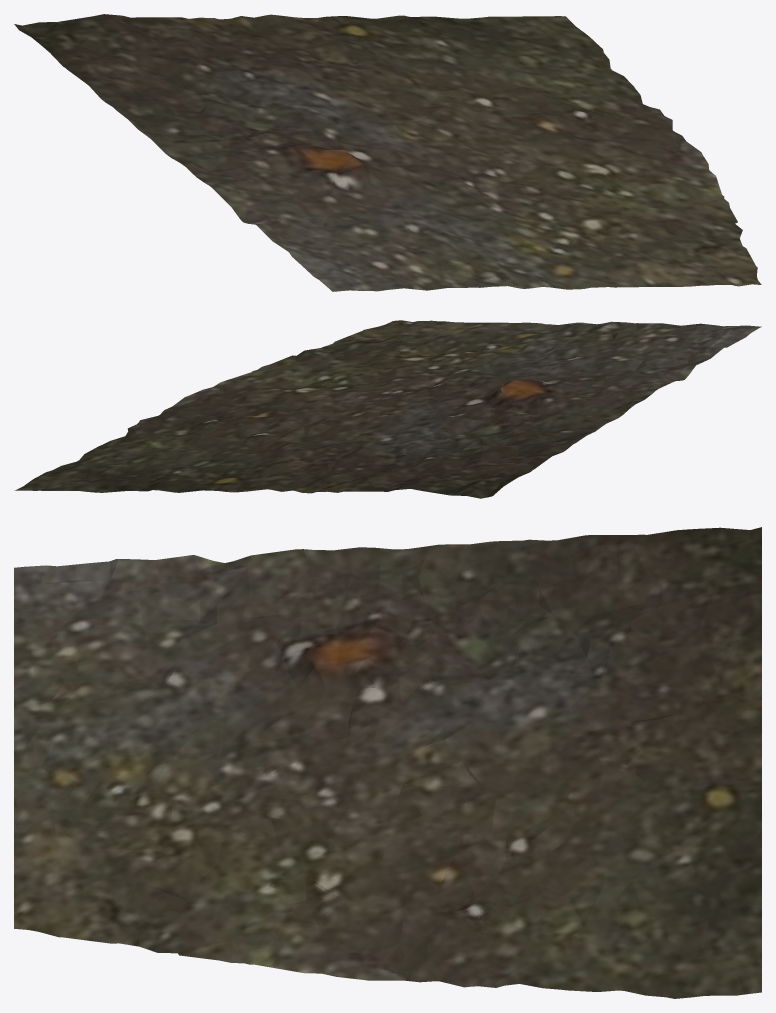
3 views of the same model, one above another, from view 1: azimuth 30°, elevation 25°; view 2: azimuth 150°, elevation 25°; view 3: azimuth 270°, elevation 25° (orthographic). The views are drawn at different scales.
Bounding box in the file's own units: 0.8374 × 0.1925 × 0.8373.
2 materials, 2 textured.
